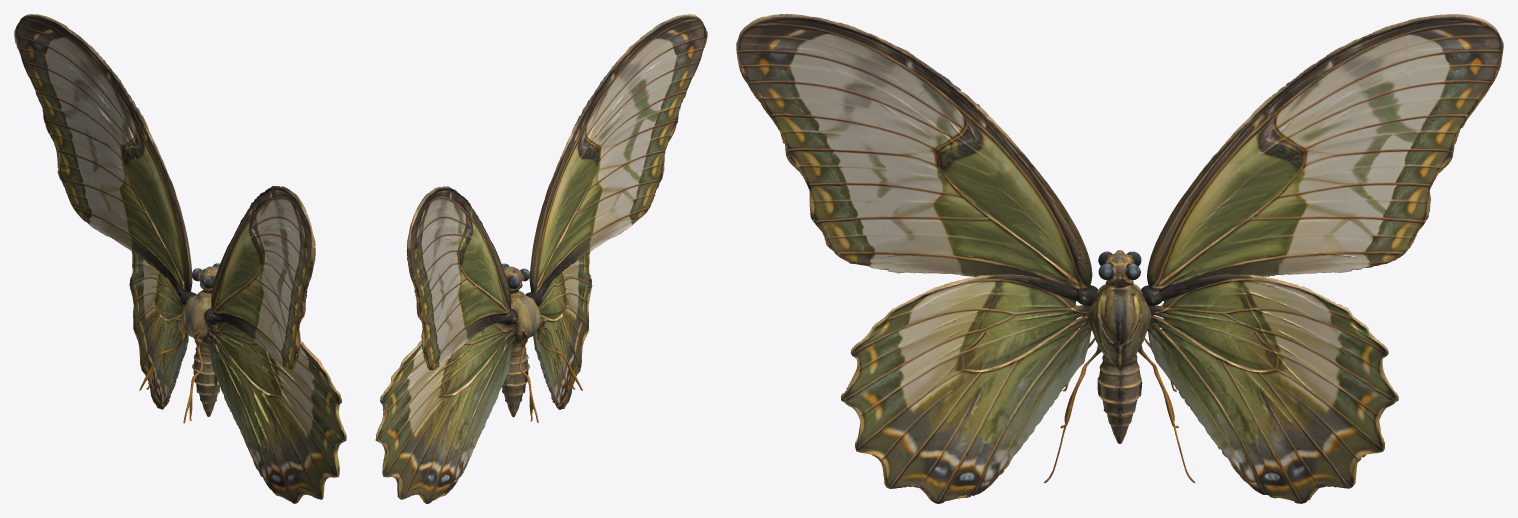
The model's file is 9db67071-26be-4bba-b935-a77587462d37.glb.
The picture shows the model from 3 angles, left to right: view 1: azimuth 30°, elevation 25°; view 2: azimuth 150°, elevation 25°; view 3: azimuth 270°, elevation 25°; orthographic projection. The views are drawn at different scales.
Visible parts, largest first — view 1: tripo_node_9db67071-26be-4bba-b935-a77587462d37; view 2: tripo_node_9db67071-26be-4bba-b935-a77587462d37; view 3: tripo_node_9db67071-26be-4bba-b935-a77587462d37.
Part boxes in pixels (x1,y1,x2,y2): tripo_node_9db67071-26be-4bba-b935-a77587462d37: [14, 14, 346, 503]; tripo_node_9db67071-26be-4bba-b935-a77587462d37: [375, 14, 707, 503]; tripo_node_9db67071-26be-4bba-b935-a77587462d37: [736, 14, 1503, 503].
Bounding box in the file's own units: 0.163 × 0.6587 × 0.9991.
Materials: 1 (1 with a texture image).
